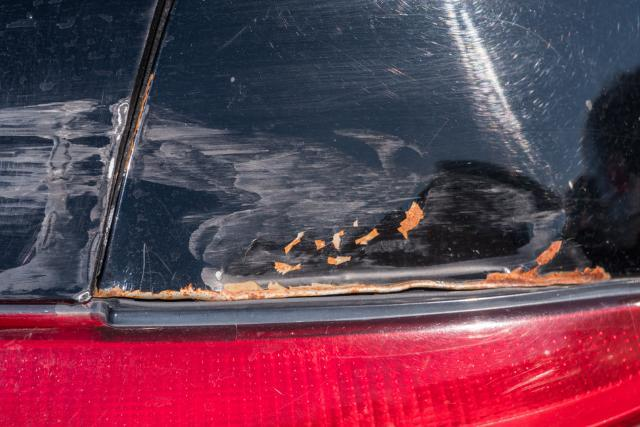Dickey: (130, 12, 640, 304)
Fender: (0, 7, 101, 290)
